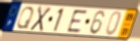0: (104, 11, 122, 37)
1: (52, 8, 65, 33)
6: (89, 9, 105, 36)
E: (66, 9, 89, 33)
Q: (15, 6, 35, 30)
X: (28, 5, 52, 33)
